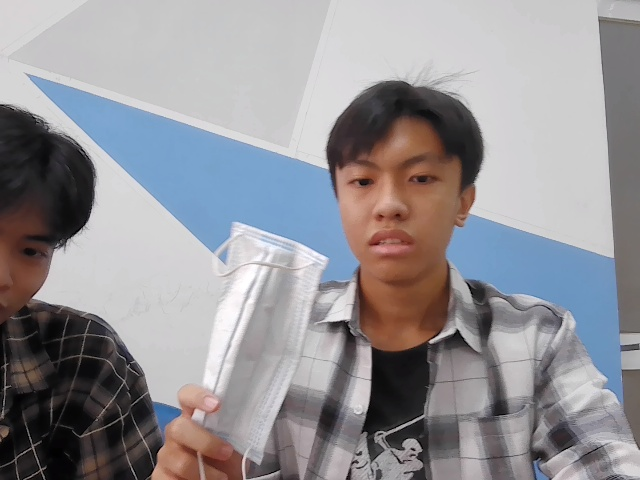human: (327, 73, 481, 276), (1, 104, 95, 328)
mask: (190, 212, 325, 466)
